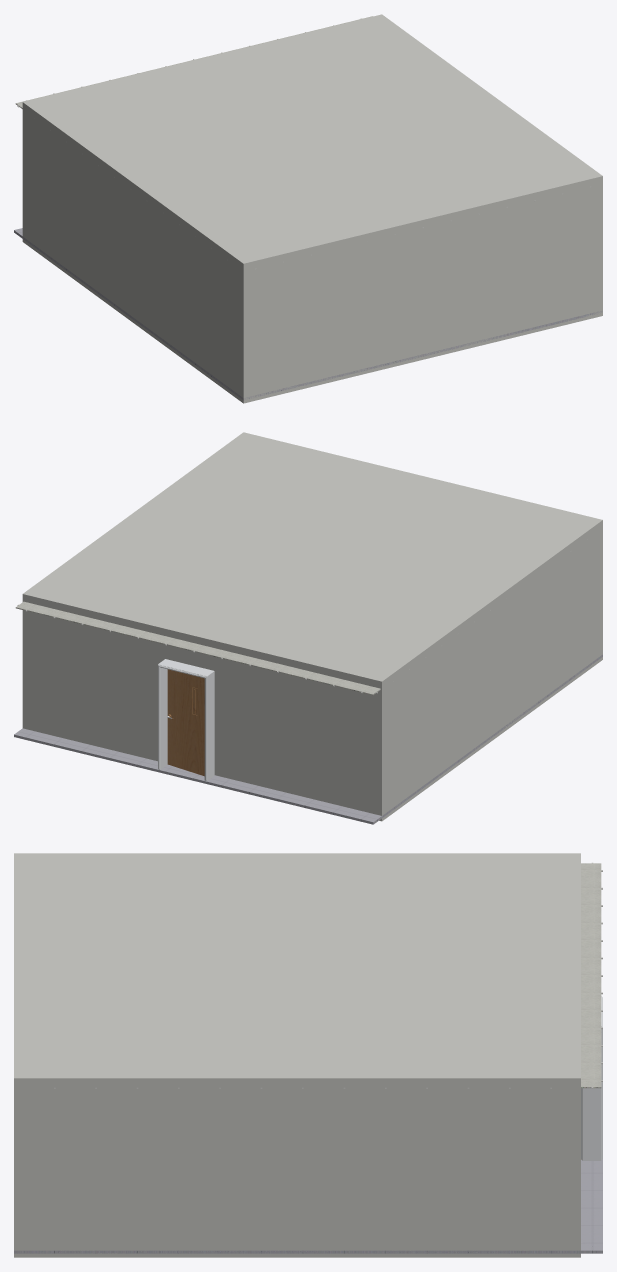
The model's file is infinigen-urgent-care-clinic.glb.
3 views of the same model, one above another, from view 1: azimuth 30°, elevation 25°; view 2: azimuth 150°, elevation 25°; view 3: azimuth 270°, elevation 25° (orthographic). The views are drawn at different scales.
Visible parts, largest first — view 1: bedroom_0/0.exterior, openclinxr_floor_field; view 2: bedroom_0/0.exterior, openclinxr_floor_field, bedroom_0/0.door_leaf, openclinxr_ceiling_tiles, bedroom_0/0.door_casing; view 3: bedroom_0/0.exterior, openclinxr_ceiling_tiles, openclinxr_floor_field, bedroom_0/0.door_casing.
Part boxes in pixels (bbox=[...]): bedroom_0/0.exterior: bbox=[22, 14, 602, 403]; openclinxr_floor_field: bbox=[14, 228, 602, 400]; bedroom_0/0.exterior: bbox=[22, 432, 602, 821]; openclinxr_floor_field: bbox=[14, 654, 602, 824]; bedroom_0/0.door_leaf: bbox=[167, 669, 204, 776]; openclinxr_ceiling_tiles: bbox=[15, 601, 380, 695]; bedroom_0/0.door_casing: bbox=[158, 659, 214, 780]; bedroom_0/0.exterior: bbox=[14, 853, 580, 1257]; openclinxr_ceiling_tiles: bbox=[581, 863, 601, 1088]; openclinxr_floor_field: bbox=[14, 1159, 602, 1253]; bedroom_0/0.door_casing: bbox=[581, 996, 602, 1160].
Bounding box in the file's own units: 7.72 × 2.87 × 8.54.
Materials: 17 (10 with a texture image).
